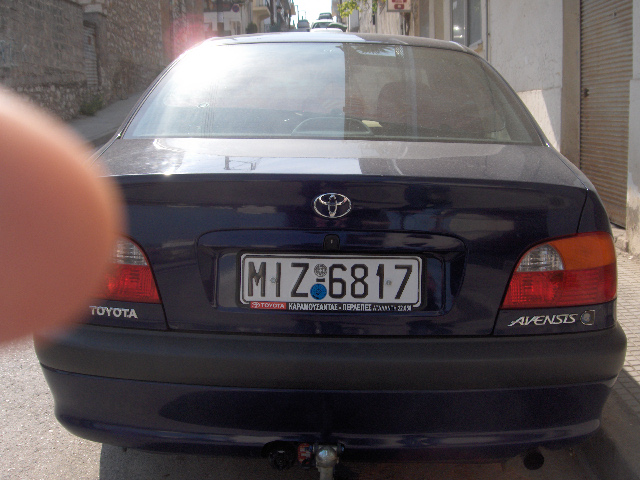licenseplate: (238, 251, 421, 307)
